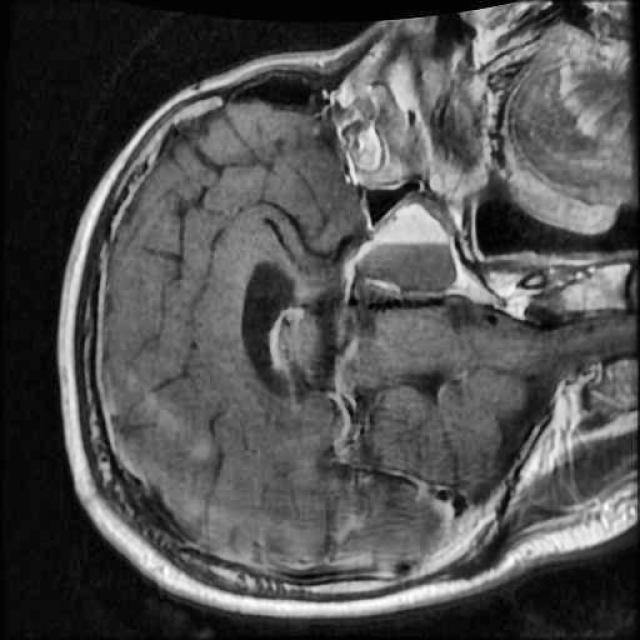Tumor: (331, 189, 470, 304)
